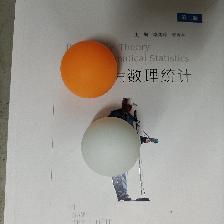WhiteBall: (80, 116, 140, 177)
YellowBall: (59, 39, 117, 98)
